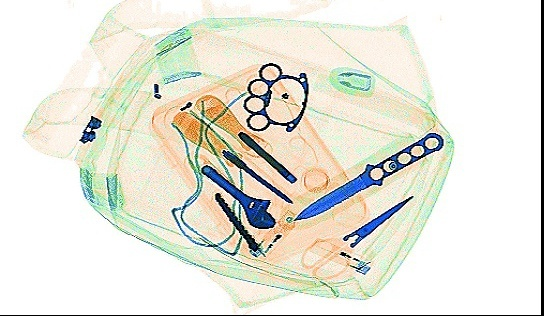knife: (293, 131, 443, 220)
lighter: (248, 209, 298, 259), (308, 236, 369, 274)
scissors: (298, 196, 414, 280)
